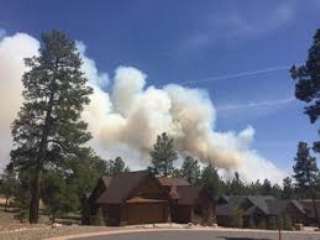smoke: (89, 68, 277, 181)
